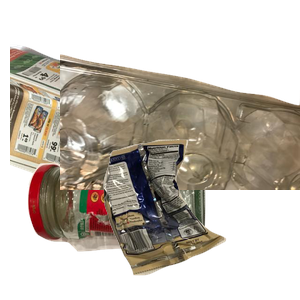glass: (25, 155, 227, 300)
paper: (10, 42, 224, 222)
plastic: (60, 52, 300, 232)
trash: (101, 137, 300, 300)
